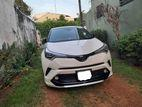car: (41, 25, 113, 88)
